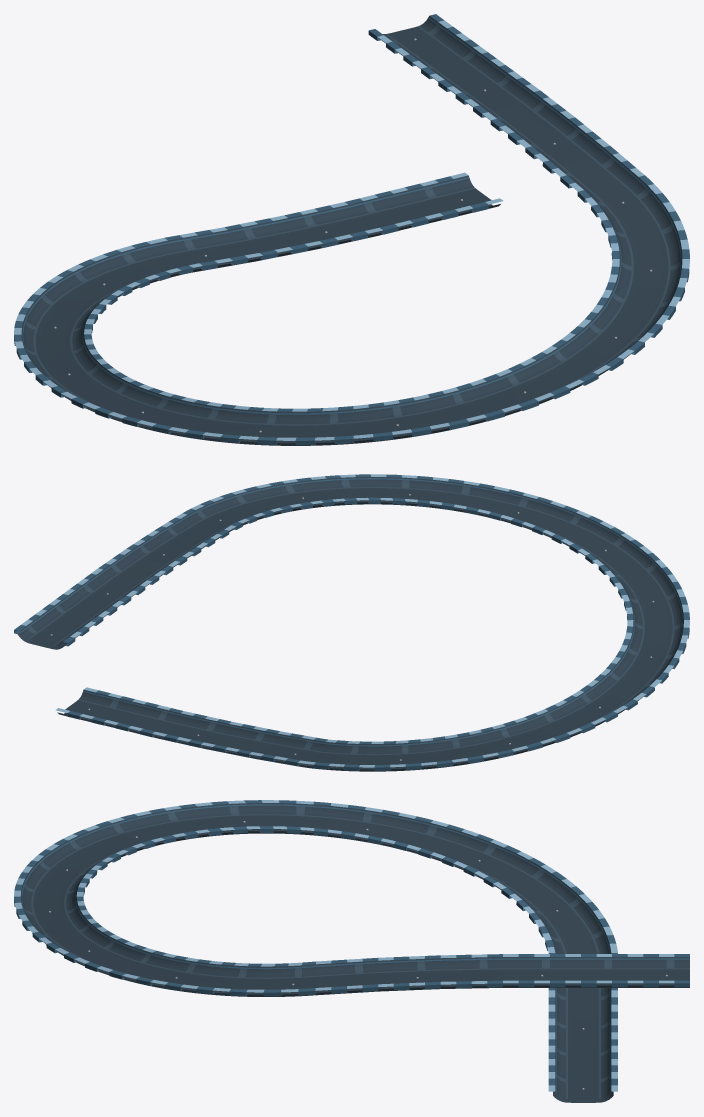
File: blue_block90_S_R_T3.fbx
3 views of the same model, one above another, from view 1: azimuth 30°, elevation 25°; view 2: azimuth 150°, elevation 25°; view 3: azimuth 270°, elevation 25° (orthographic). The views are drawn at different scales.
Visible parts, largest first — view 1: blue_block90_S_R_T3; view 2: blue_block90_S_R_T3; view 3: blue_block90_S_R_T3.
Part boxes in pixels (left/top/right/bottom): blue_block90_S_R_T3: left=14, top=14, right=689, bottom=445; blue_block90_S_R_T3: left=14, top=474, right=689, bottom=771; blue_block90_S_R_T3: left=14, top=800, right=689, bottom=1102.
Size of the model in its own units: 9824 by 2227 by 10978.
